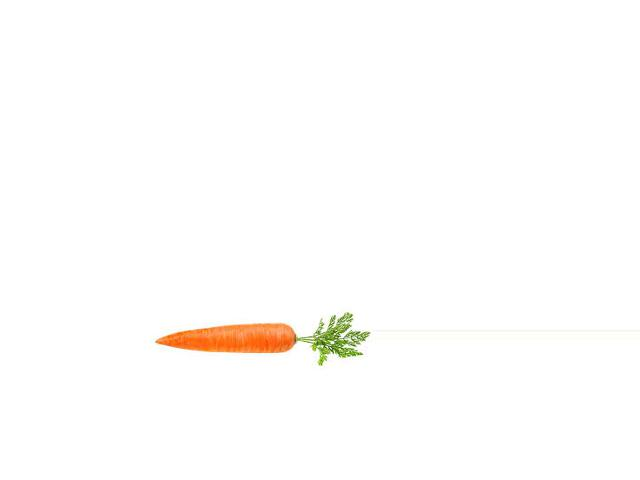carrot: (150, 319, 300, 360)
